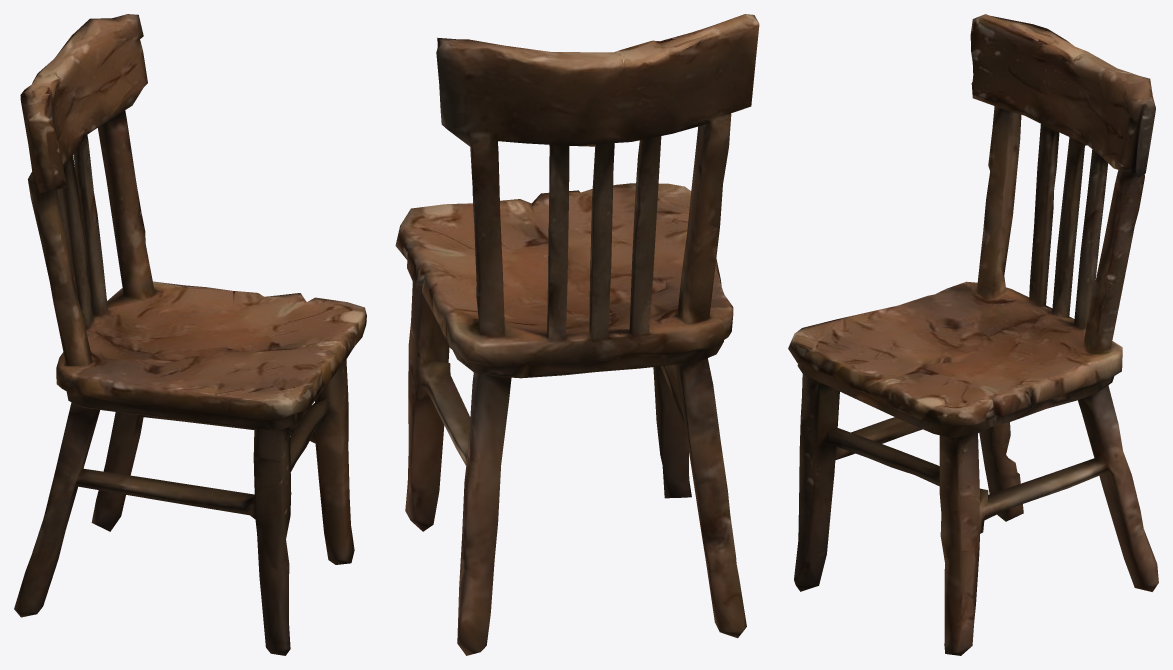
The model's file is e_chair.glb.
3 renders of one model, left to right at view 1: azimuth 30°, elevation 25°; view 2: azimuth 150°, elevation 25°; view 3: azimuth 270°, elevation 25°, orthographic. The views are drawn at different scales.
Parts seen in each view (by area): view 1: tripo_node_3e89be92-c23a-4296-9516-d3808289ef3f; view 2: tripo_node_3e89be92-c23a-4296-9516-d3808289ef3f; view 3: tripo_node_3e89be92-c23a-4296-9516-d3808289ef3f.
Boxes of the visible parts, box(x1,y1,x2,y2) form: tripo_node_3e89be92-c23a-4296-9516-d3808289ef3f: box(14, 14, 366, 655); tripo_node_3e89be92-c23a-4296-9516-d3808289ef3f: box(395, 14, 759, 655); tripo_node_3e89be92-c23a-4296-9516-d3808289ef3f: box(788, 14, 1158, 655).
Bounding box in the file's own units: 0.6442 × 1 × 0.6644.
Materials: 1 (1 with a texture image).
